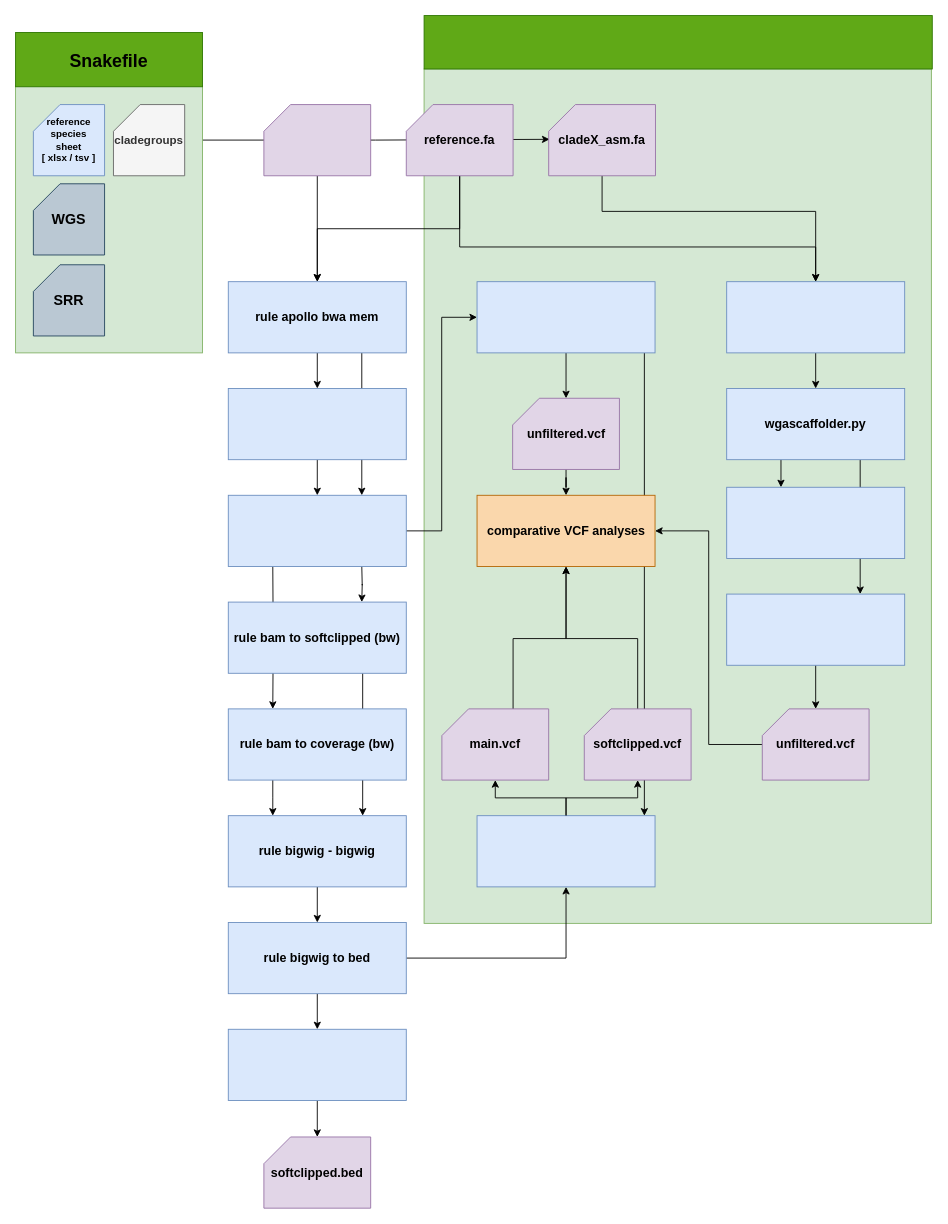
The diagram is 948 pixels wide and 1224 high, and some of its shapes have lost their labels. The shapes that lost their labels are listed below. From the top down, each one's box as (x1, y1, x2, y2) in pixels, then its label:
(423, 15, 932, 69): ANALYSIS, NON-Snakefile part of the pipeline
(263, 104, 371, 176): cladeX_1.fq.gz cladeX_2.fq.gz
(476, 281, 655, 353): rule apollo freebayes
(726, 281, 905, 353): minimap clade-WGS to reference
(227, 388, 406, 460): rule samtools stat
(227, 494, 406, 566): rule delimit to proper insertsize PE mapped reads
(726, 486, 905, 558): wga2deletions.py
(726, 593, 905, 665): paftools.js call --> vcf
(476, 815, 655, 887): rule bedtools intersect VCF
(227, 1028, 406, 1100): rule (all) bedtools multiinter
